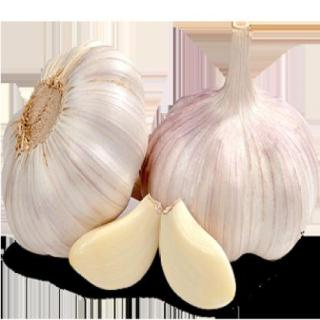Bawang Putih: (144, 21, 320, 263), (1, 38, 149, 258), (68, 196, 162, 289), (160, 200, 237, 310)
